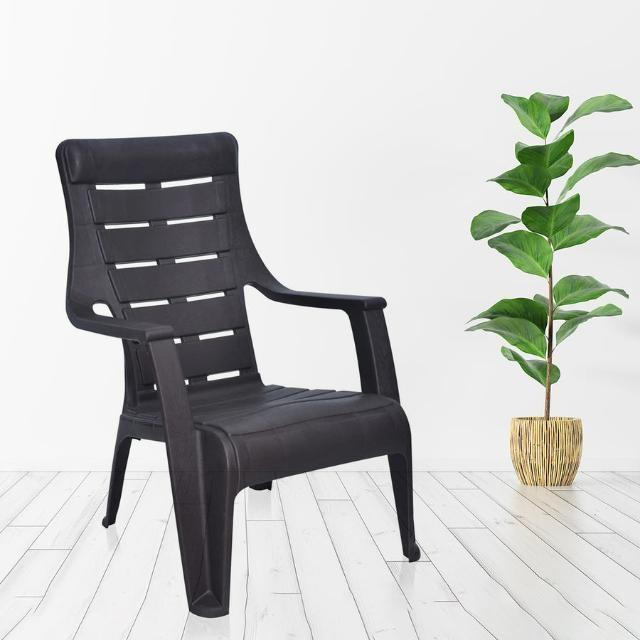obstacle: (33, 76, 475, 620)
